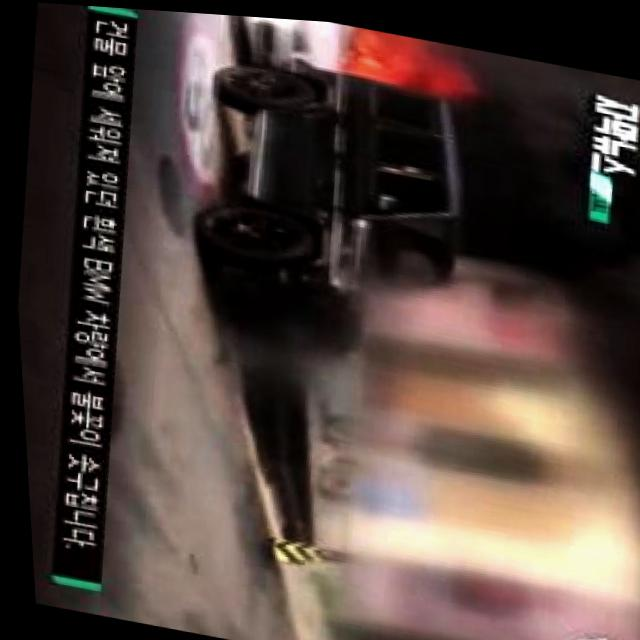Fire: (338, 19, 451, 87)
